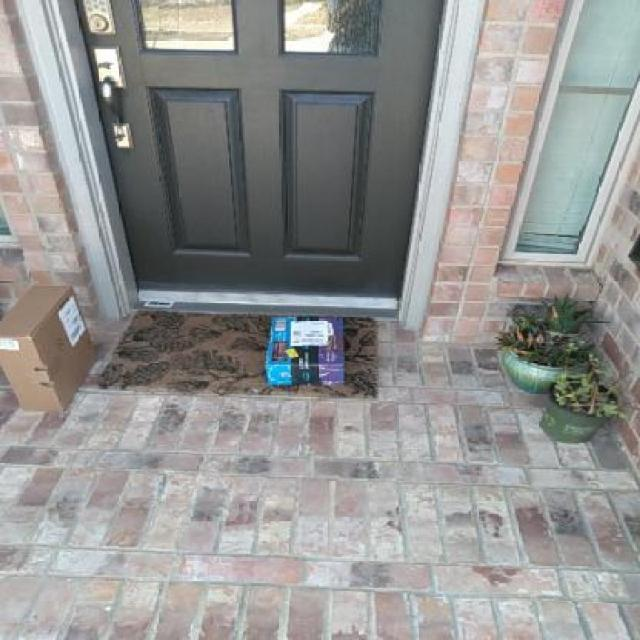cardboxes: (1, 274, 108, 424), (254, 305, 360, 392)
